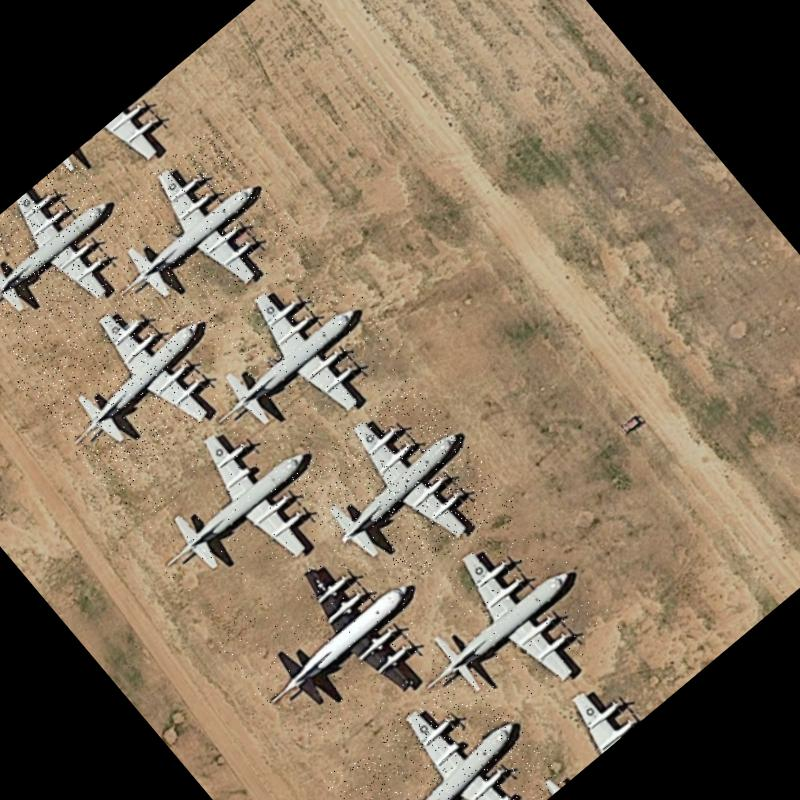A9: (210, 519, 460, 765), (372, 501, 622, 747), (166, 240, 416, 485), (15, 254, 264, 499), (111, 388, 356, 628), (72, 122, 308, 355), (284, 374, 516, 606), (319, 660, 566, 800), (0, 153, 158, 368)
